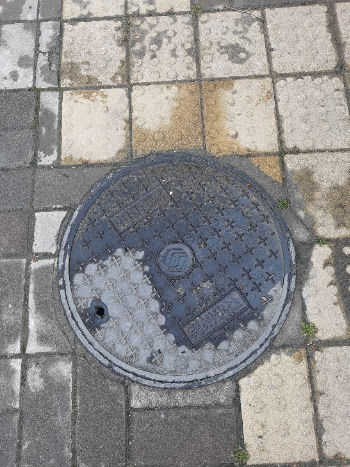good: (59, 152, 298, 390)
